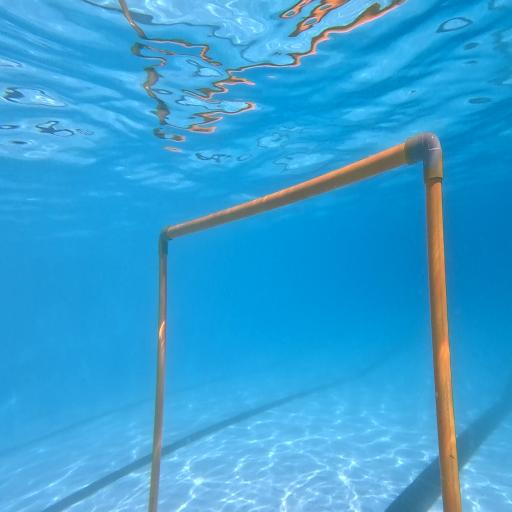gate: (148, 133, 462, 512)
